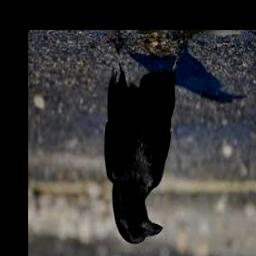Crow: (105, 39, 182, 245)
